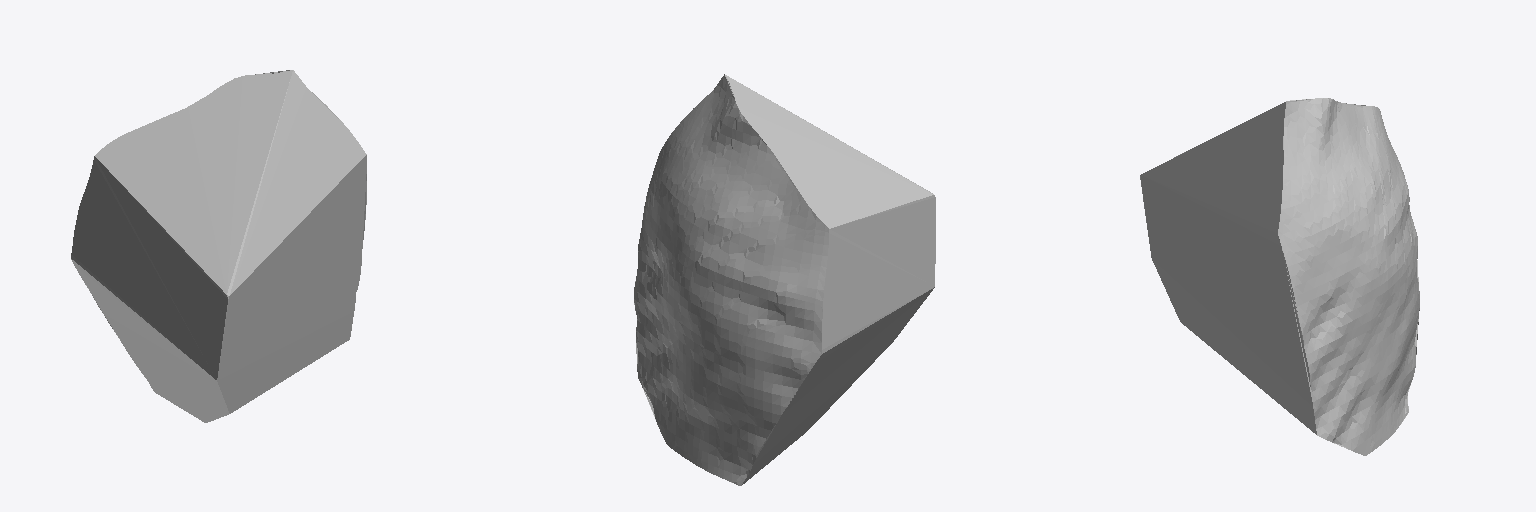
Rendered from low_cell_074.obj.
The picture shows the model from 3 angles: view 1: azimuth 30°, elevation 25°; view 2: azimuth 150°, elevation 25°; view 3: azimuth 270°, elevation 25°; orthographic projection.
Visible parts, largest first — view 1: low_cell.074_low_cell.073; view 2: low_cell.074_low_cell.073; view 3: low_cell.074_low_cell.073.
Boxes of the visible parts, box(x1,y1,x2,y2) form: low_cell.074_low_cell.073: box(71, 70, 366, 422); low_cell.074_low_cell.073: box(634, 74, 935, 485); low_cell.074_low_cell.073: box(1140, 98, 1419, 455).
Size of the model in its own units: 0.5167 by 0.7195 by 0.5239.